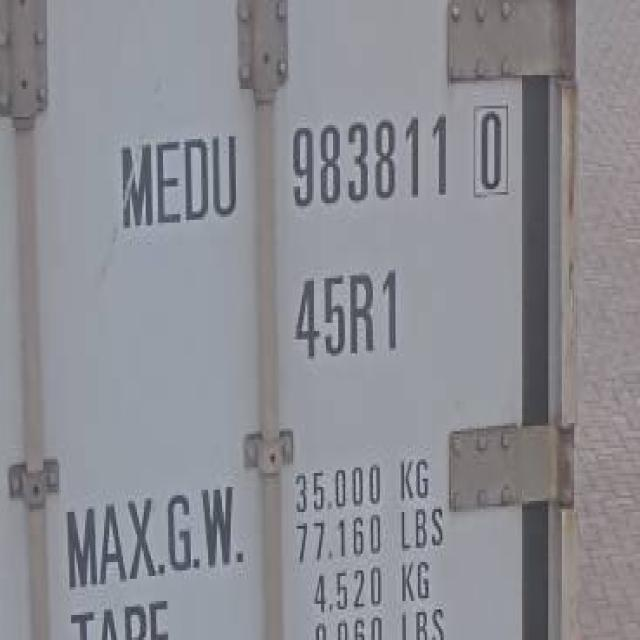dv: (468, 97, 514, 204)
owner: (114, 120, 240, 236)
serial: (286, 100, 453, 214)
size: (291, 256, 401, 367)
